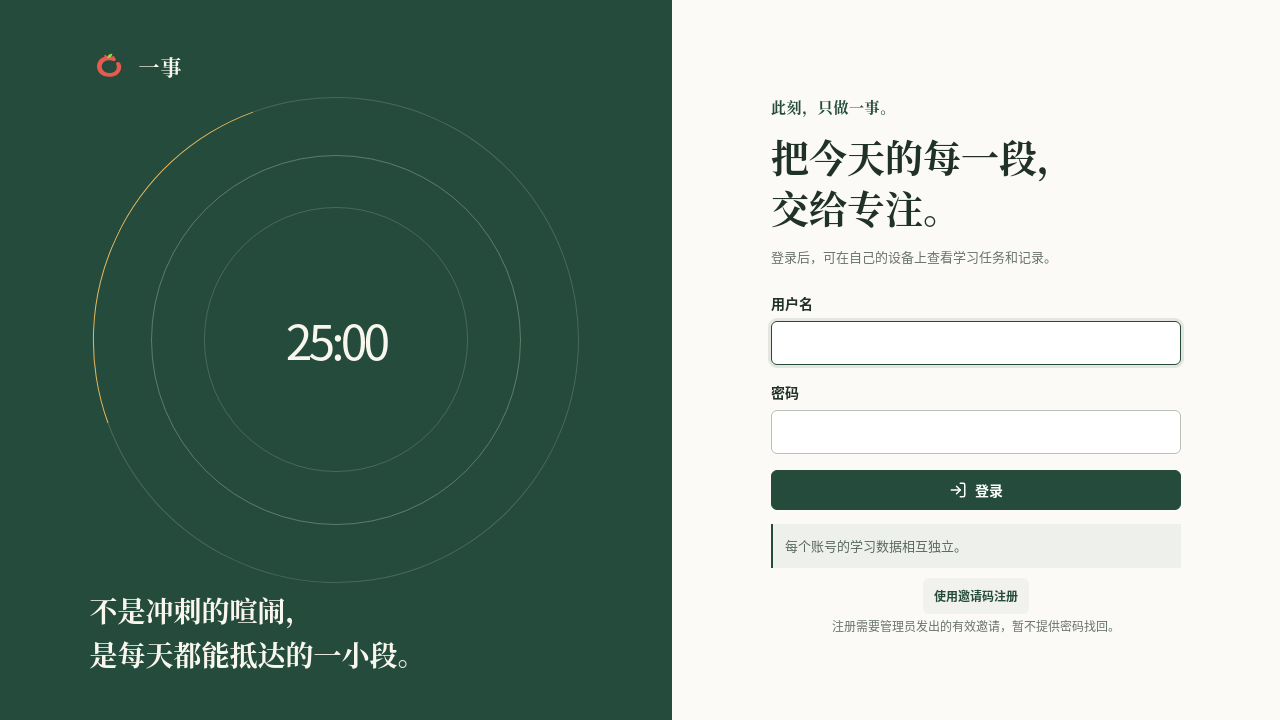
Test: authentication experience › shows safe login feedback for {"code":"INVALID_CREDENTIALS","name":"SyncClientError"}
Step 1. Type "learner" into the field labelled "用户名" → [976, 343], box [771,321,1181,365]
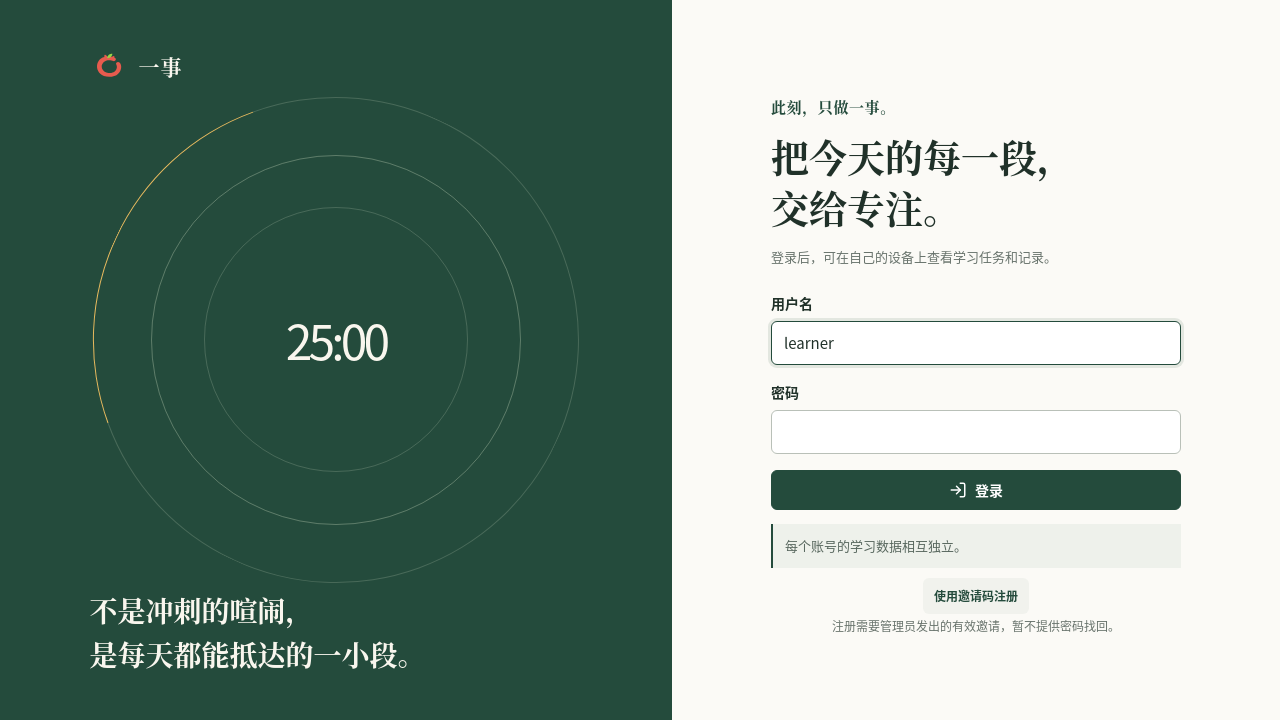
Step 2. Type "wrong password" into the password field labelled "密码" → [976, 432], box [771,410,1181,454]
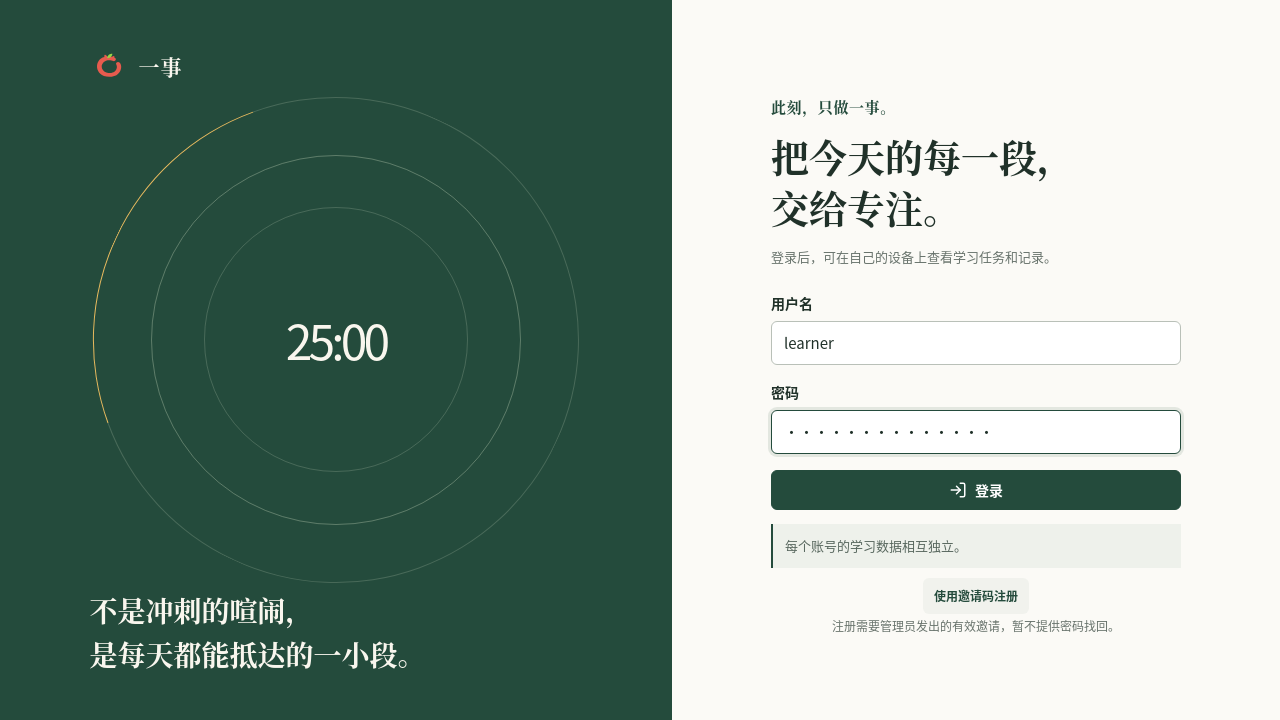
Step 3. Click the button "登录" → [976, 490], box [771,470,1181,510]
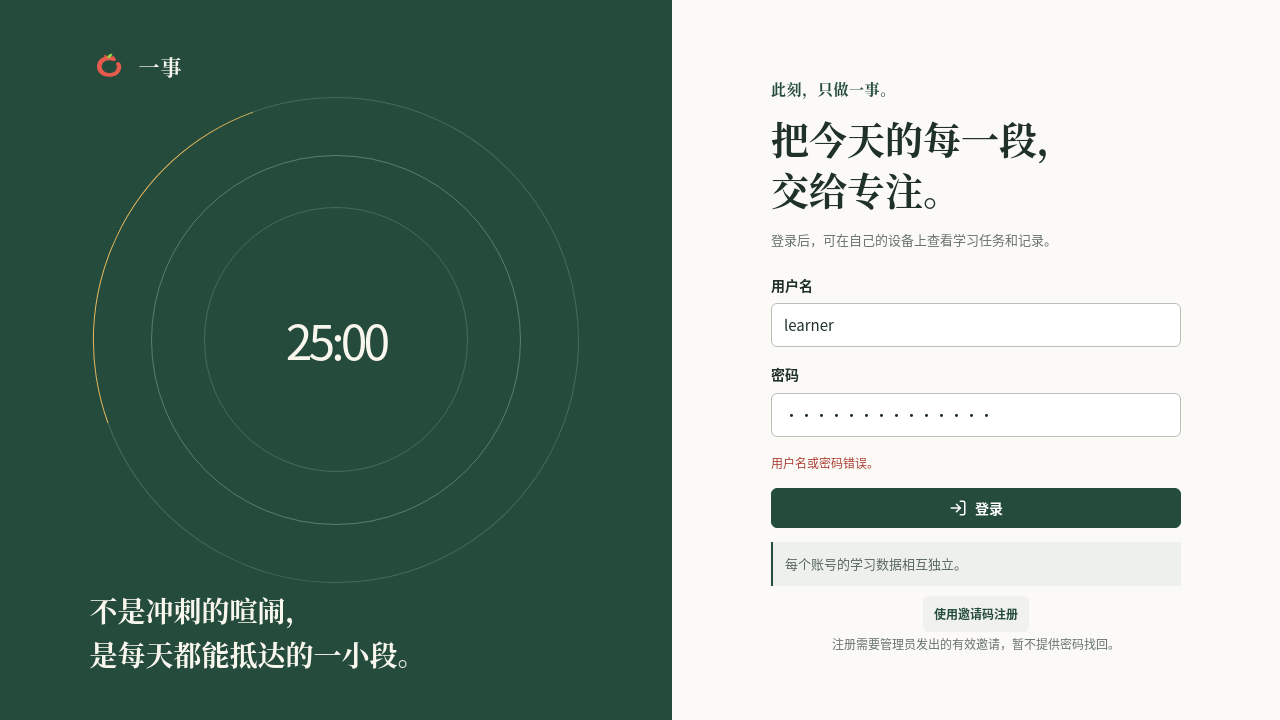
Expected: the message shows "用户名或密码错误", [771,454,879,471]
